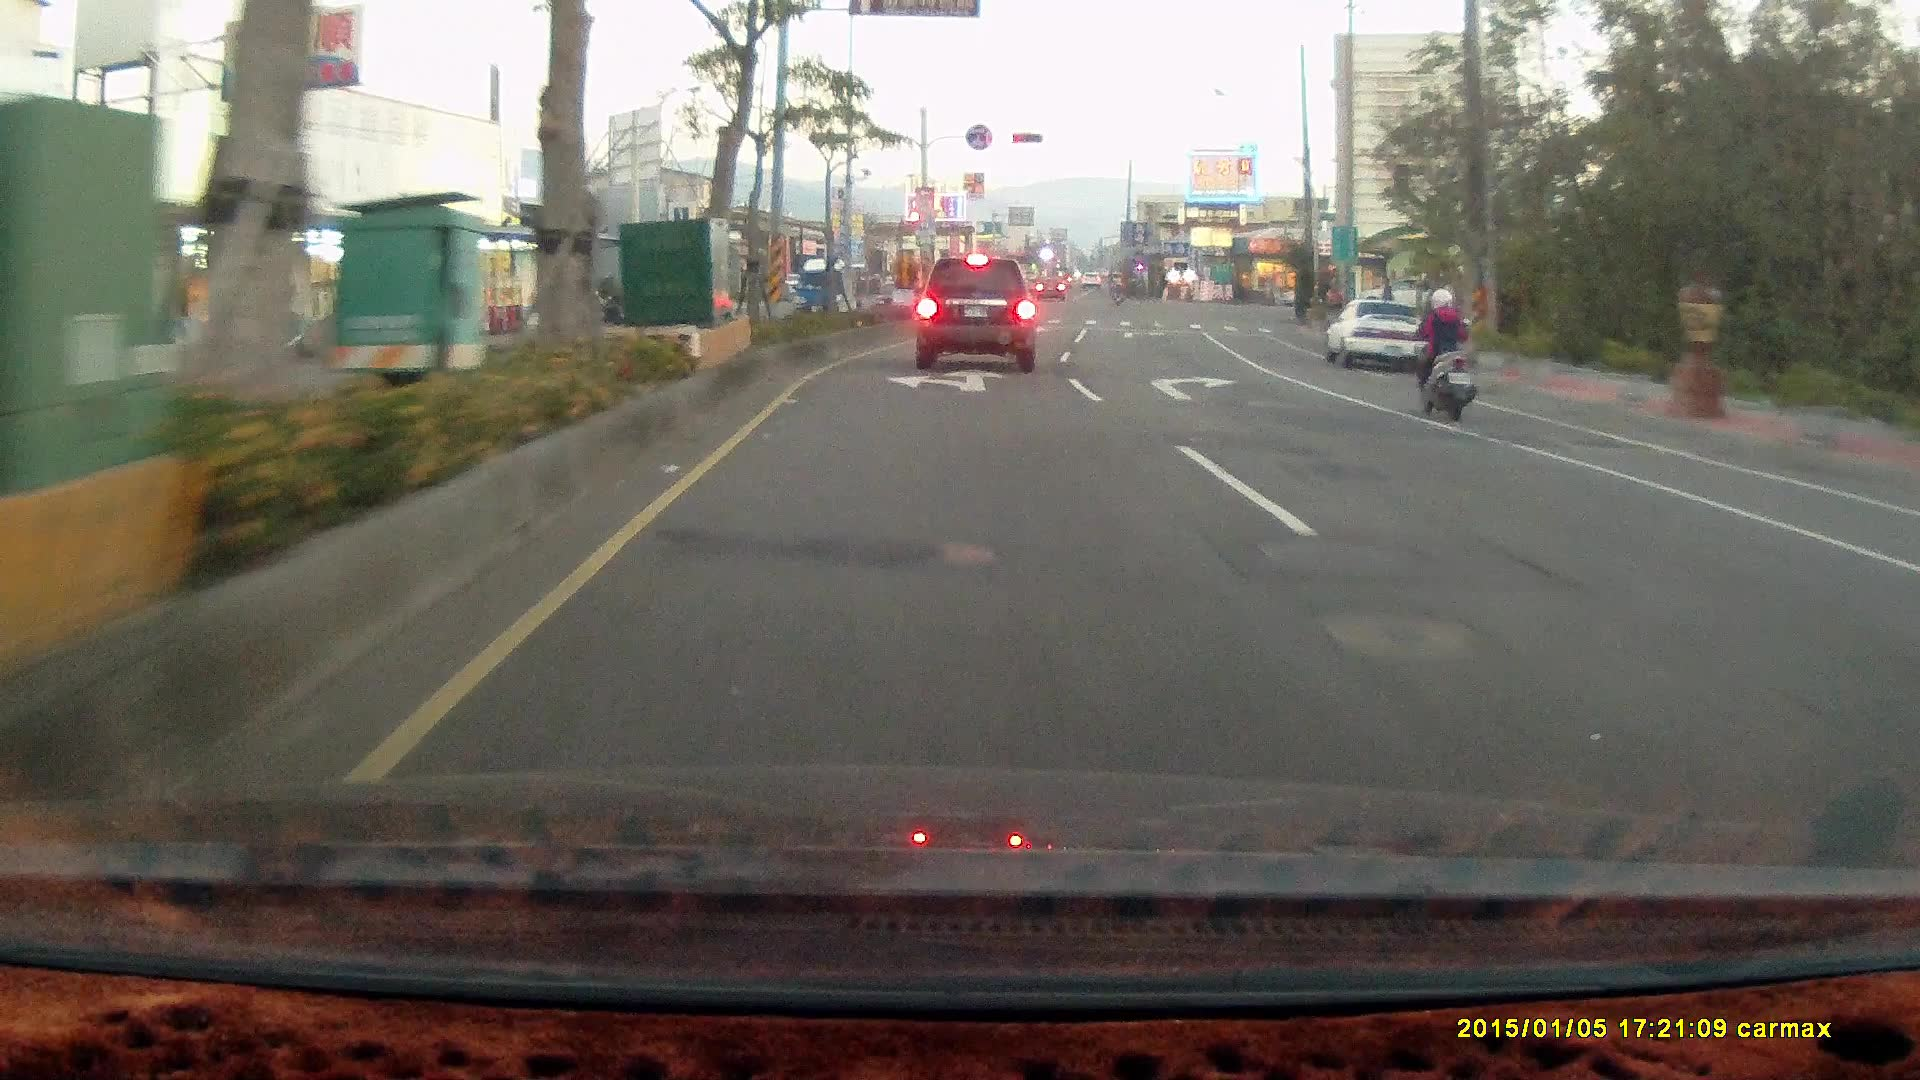rider: (1401, 277, 1479, 415)
vehicle: (914, 254, 1036, 373), (1326, 296, 1434, 373), (1896, 493, 1920, 836), (1322, 295, 1431, 371), (1883, 528, 1920, 690), (1354, 274, 1440, 311)
